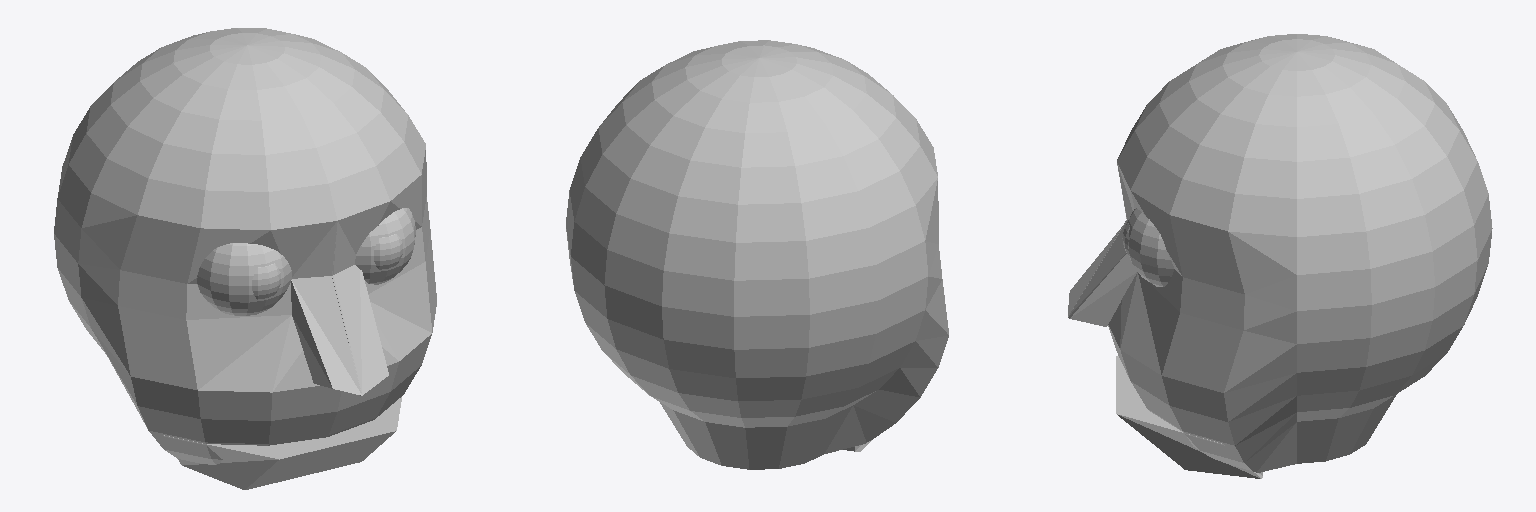
The model's file is Head.obj.
3 renders of one model, left to right at view 1: azimuth 30°, elevation 25°; view 2: azimuth 150°, elevation 25°; view 3: azimuth 270°, elevation 25°, orthographic.
Visible parts, largest first — view 1: Sphere, Cube_Cube.001, Sphere.002, Sphere.001, Sphere.003, Sphere.004; view 2: Sphere; view 3: Sphere, Cube_Cube.001, Sphere.001.
Part boxes in pixels (left/top/right/bottom): Sphere: left=54, top=28, right=436, bottom=464; Cube_Cube.001: left=163, top=397, right=401, bottom=489; Sphere.002: left=197, top=243, right=291, bottom=315; Sphere.001: left=355, top=208, right=415, bottom=284; Sphere.003: left=252, top=263, right=280, bottom=299; Sphere.004: left=374, top=234, right=402, bottom=269; Sphere: left=566, top=40, right=948, bottom=469; Sphere: left=1068, top=34, right=1492, bottom=472; Cube_Cube.001: left=1116, top=356, right=1262, bottom=478; Sphere.001: left=1128, top=208, right=1173, bottom=286.
Size of the model in its own units: 1.11 by 1.28 by 1.21.